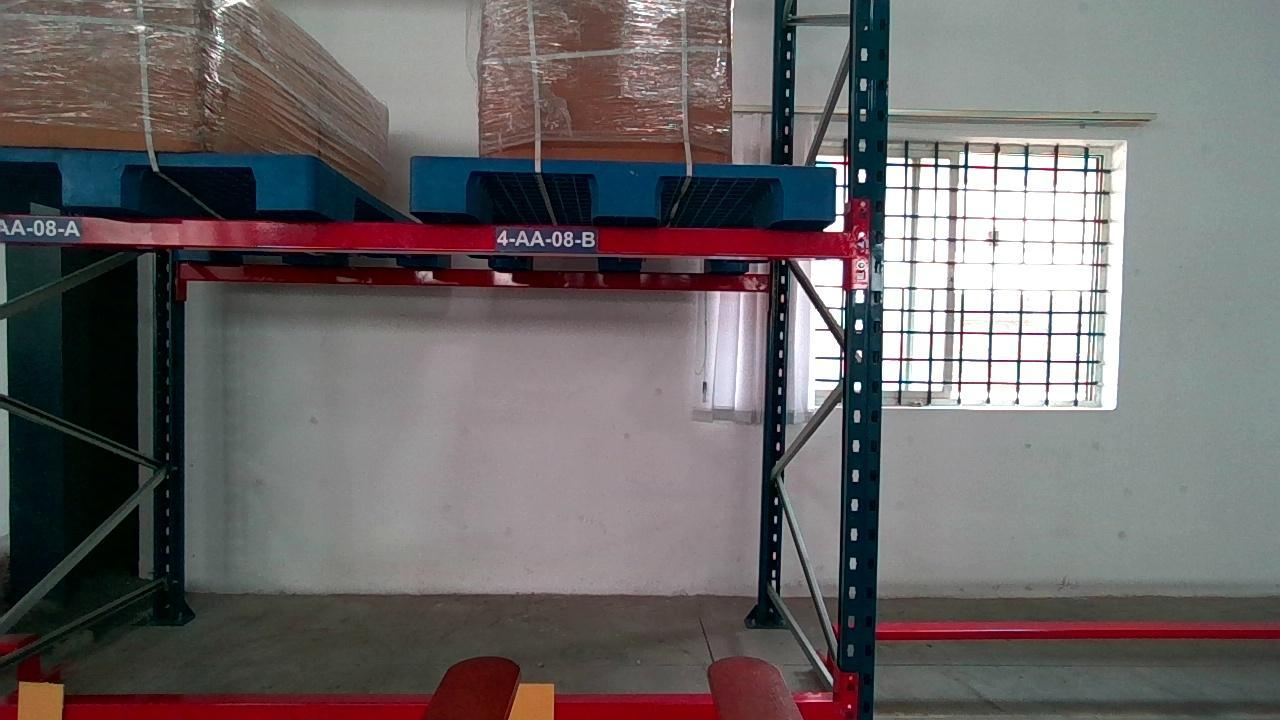h_rack: (1, 214, 855, 255), (0, 699, 837, 720)
small_pallet: (415, 159, 832, 230), (2, 146, 316, 214)
